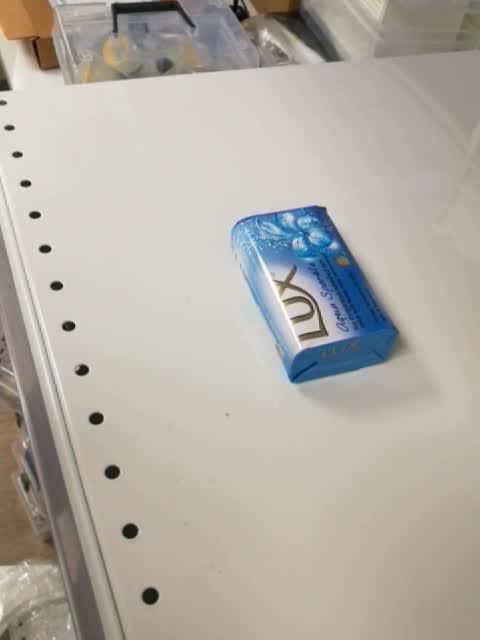soap: (230, 204, 400, 386)
